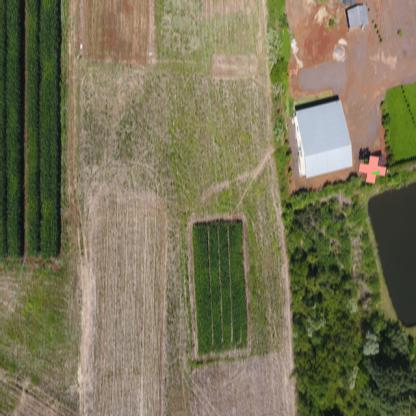1: (372, 171, 380, 176)
plus: (359, 155, 388, 183)
